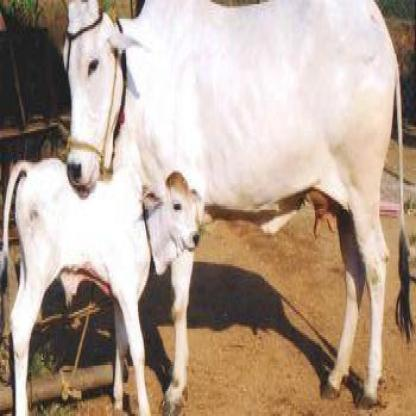cow: (65, 0, 408, 401), (2, 160, 195, 416)
